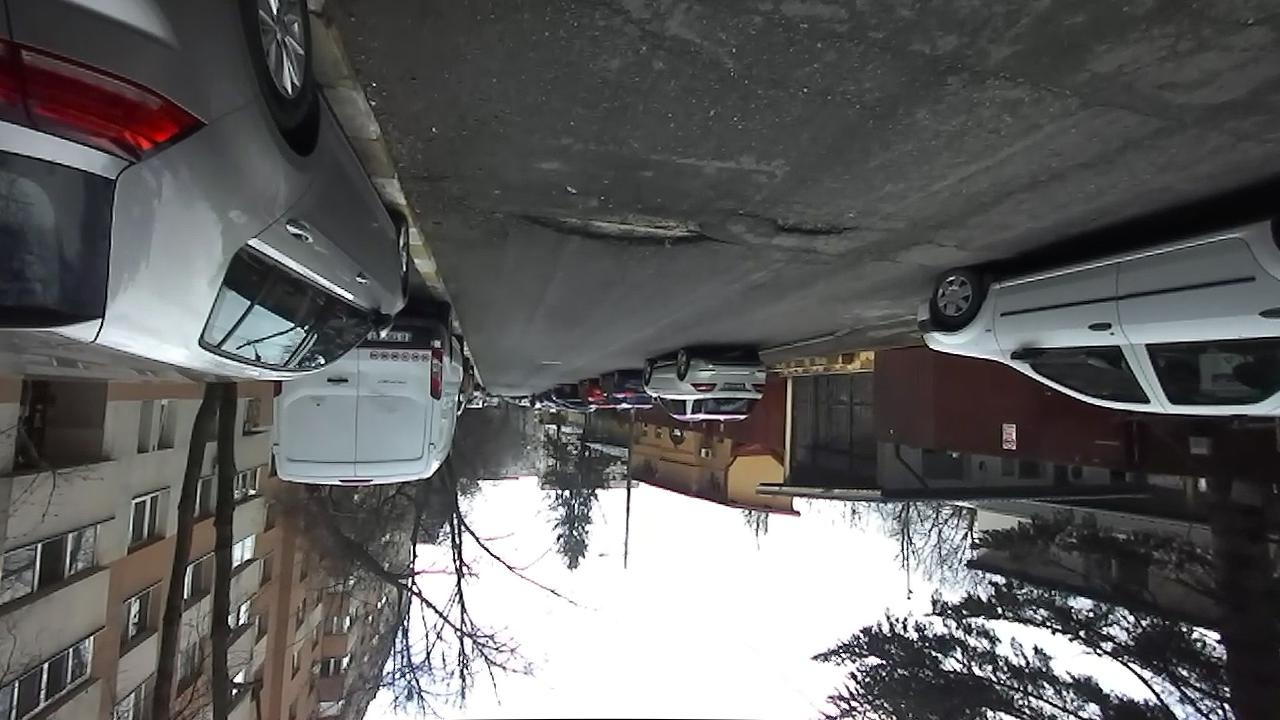pothole: (492, 205, 728, 248), (735, 207, 861, 242)
